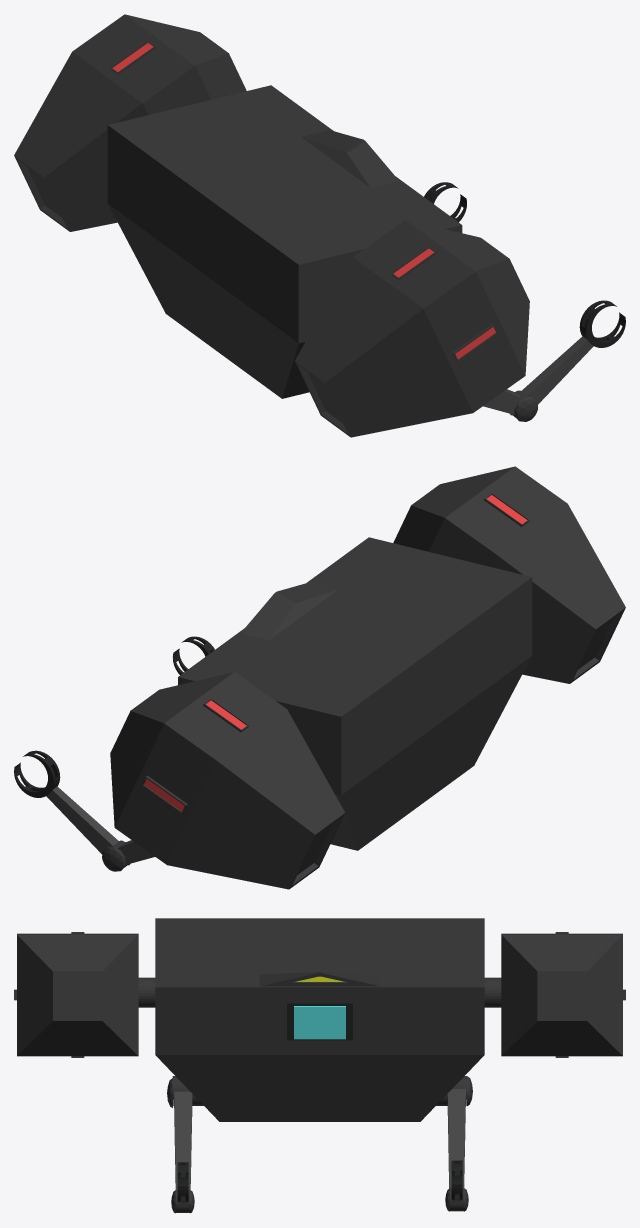
The model's file is Robo-bot.fbx.
The picture shows the model from 3 angles, top to bottom: view 1: azimuth 30°, elevation 25°; view 2: azimuth 150°, elevation 25°; view 3: azimuth 270°, elevation 25°; orthographic projection. The views are drawn at different scales.
Parts seen in each view (by area): view 1: Cube.001, Cube, Cube.004, Cylinder.003, Cube.003; view 2: Cube.001, Cube, Cube.004, Cube.003, Cylinder.003; view 3: Cube, Cube.001, Cube.002, Cube.004, Cylinder, Cylinder.003, Cylinder.001.
Boxes of the visible parts, x1,y1,x2,y2 form: Cube.001: [14, 14, 529, 437]; Cube: [107, 85, 462, 398]; Cube.004: [301, 130, 399, 187]; Cylinder.003: [424, 182, 625, 347]; Cube.003: [521, 336, 593, 404]; Cube.001: [110, 466, 625, 889]; Cube: [178, 537, 532, 850]; Cube.004: [241, 582, 338, 639]; Cube.003: [46, 786, 118, 854]; Cylinder.003: [14, 636, 214, 797]; Cube: [155, 918, 484, 1121]; Cube.001: [14, 932, 625, 1057]; Cube.002: [174, 1089, 465, 1190]; Cube.004: [259, 972, 380, 986]; Cylinder: [138, 977, 501, 1007]; Cylinder.003: [177, 1160, 462, 1201]; Cylinder.001: [172, 1076, 467, 1105].
Size of the model in its own units: 613 by 396 by 1007.
